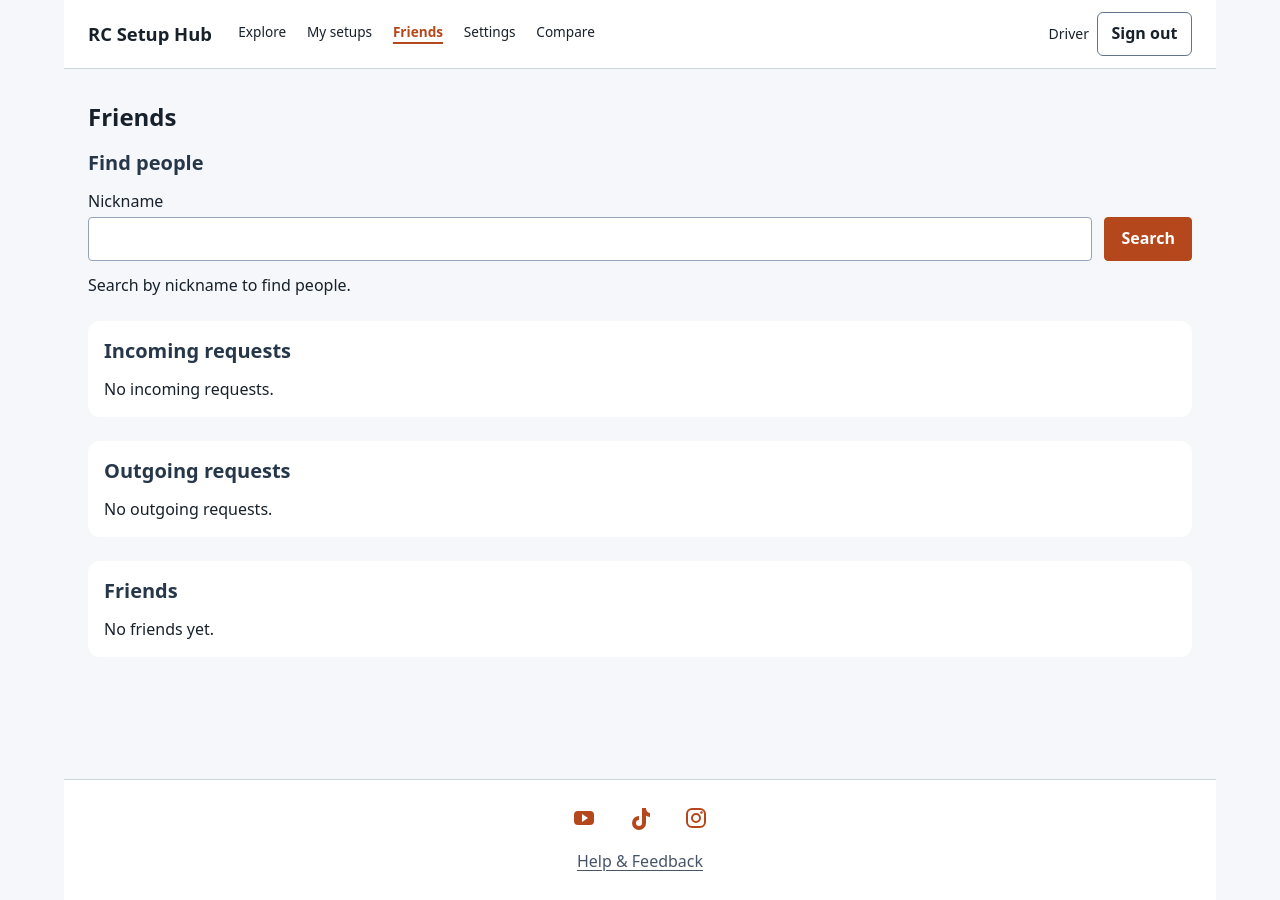
Test: send 409 refetches raced accepted state without retrying POST
Type "driver" into the field labelled "Nickname" at (590, 239), box x1=88 y1=217 x2=1092 y2=261
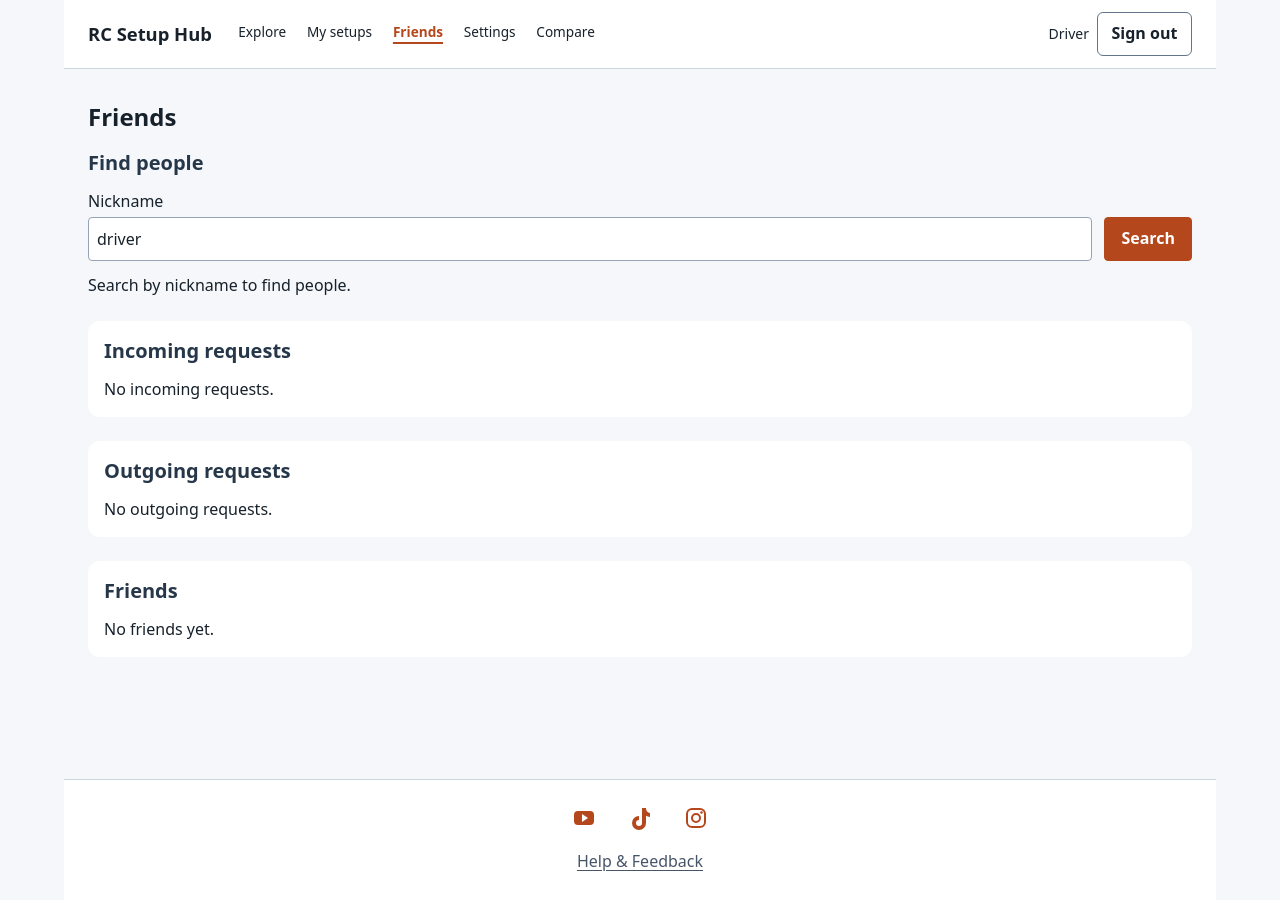
Click the button "Search" at (1148, 239), box x1=1104 y1=217 x2=1192 y2=261
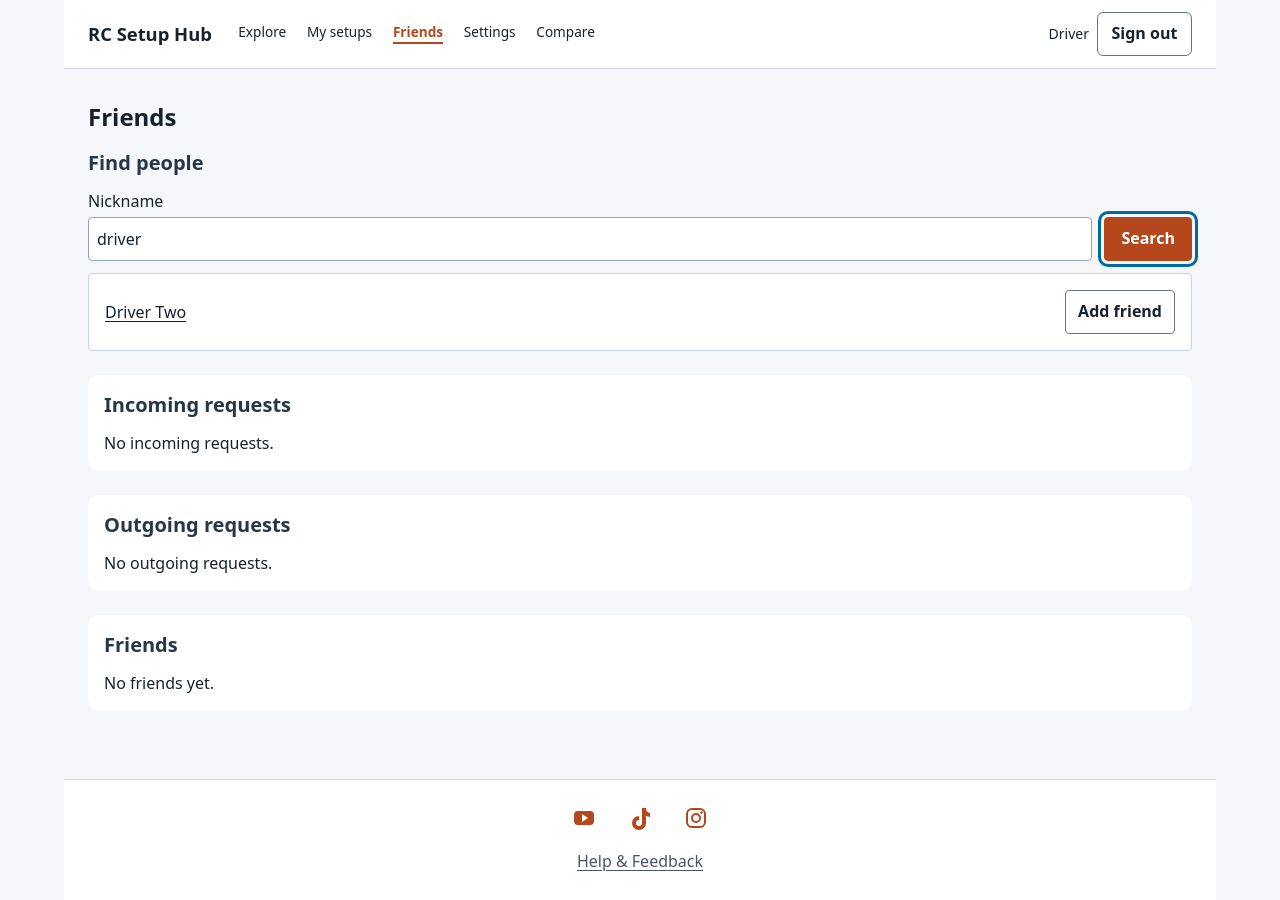
Click the button "Add friend" at (1120, 312), box x1=1065 y1=290 x2=1175 y2=334
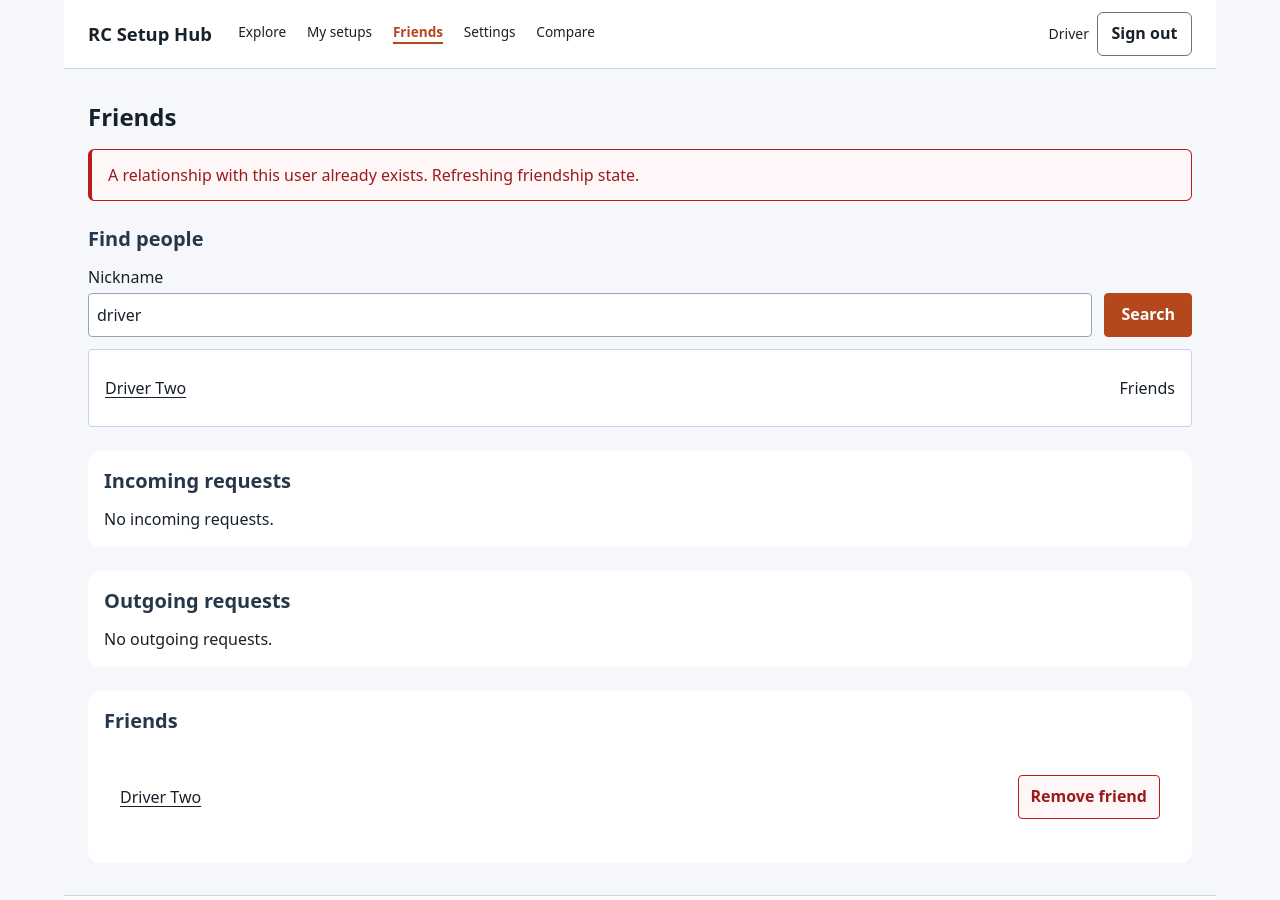
Expected: the text "Friends" is shown, x1=1120 y1=376 x2=1175 y2=400
Expected: the message shows "A relationship with this user already exists", x1=108 y1=164 x2=639 y2=186
Expected: the button "Add friend" is gone
